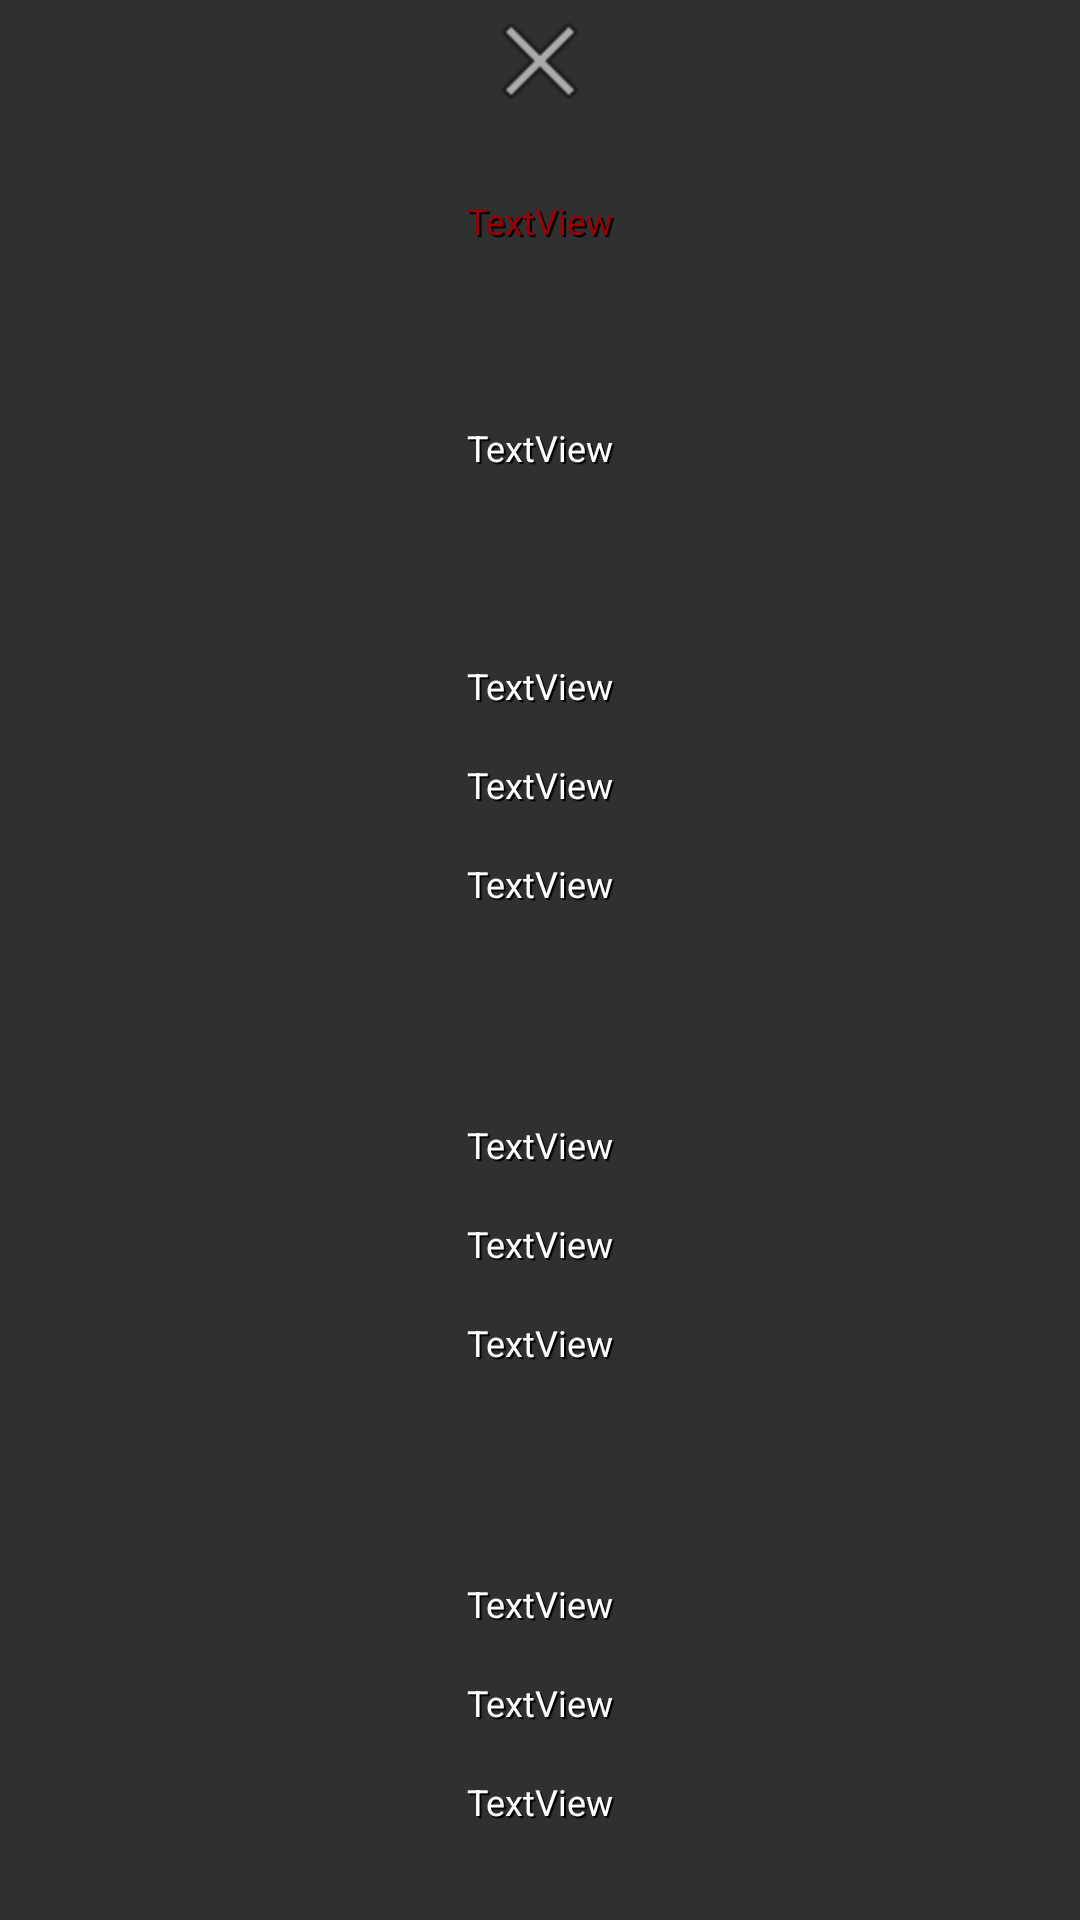

Screen size 1080 x 1920. Icon name, then its center in pixels as (x=x, y=y):
close clear cancel: (x=540, y=61)
